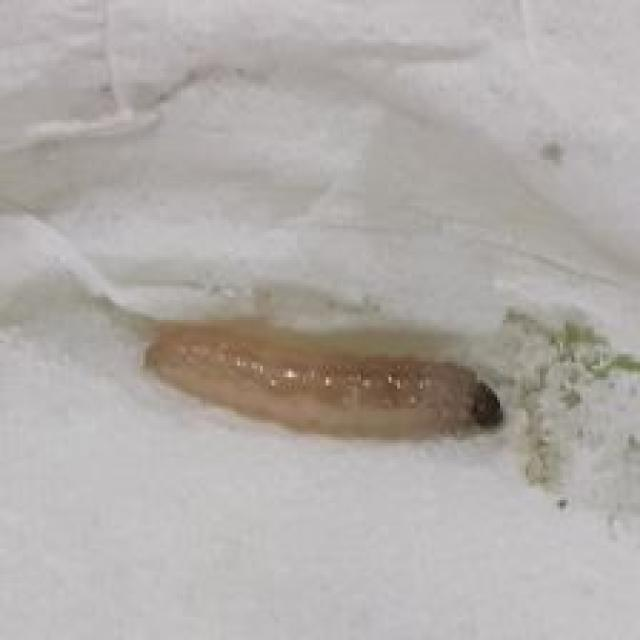white mucus: (145, 315, 511, 461)
